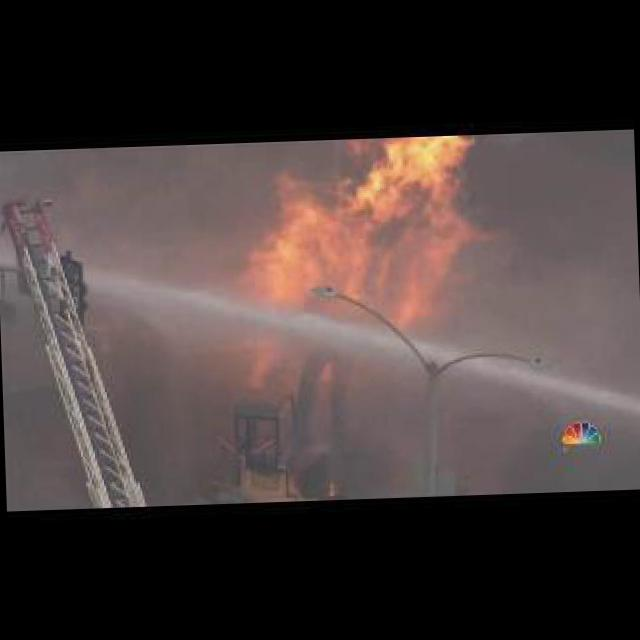Fire: (243, 134, 498, 338)
